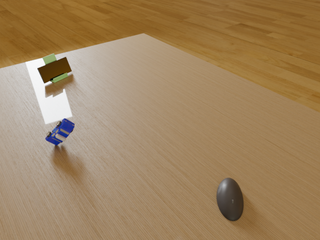mouse: (217, 178, 243, 221)
phone: (37, 57, 72, 83)
toy_car: (45, 118, 74, 145)
